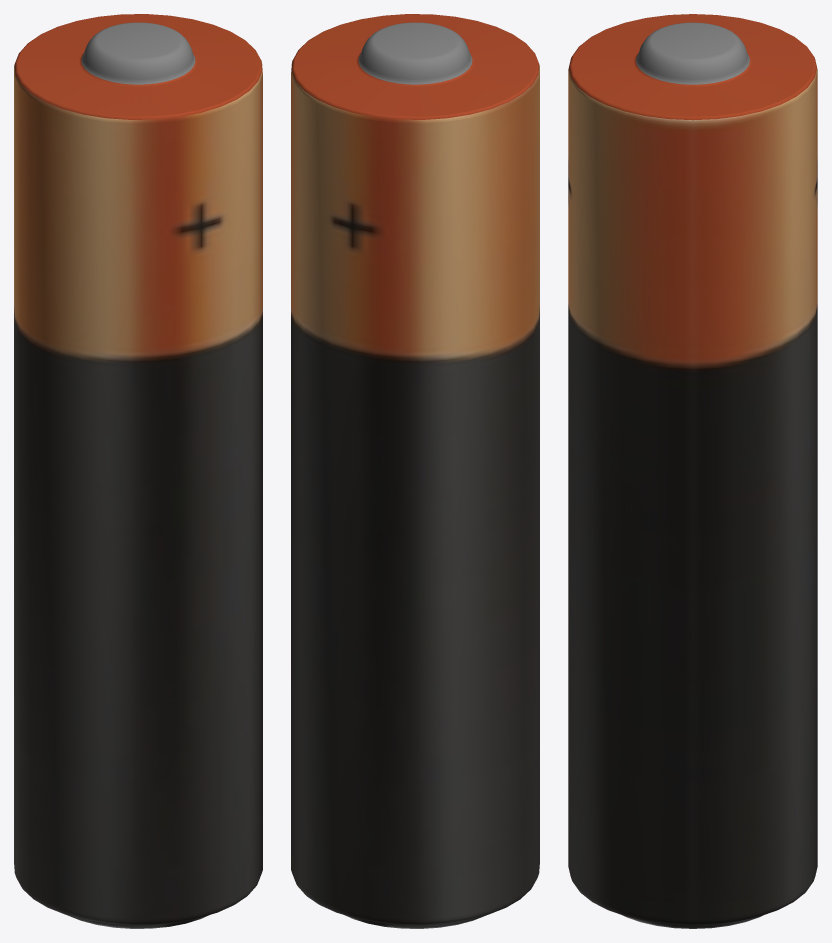
The model's file is pilha.glb.
3 renders of one model, left to right at view 1: azimuth 30°, elevation 25°; view 2: azimuth 150°, elevation 25°; view 3: azimuth 270°, elevation 25°, orthographic.
Visible parts, largest first — view 1: Cylinder; view 2: Cylinder; view 3: Cylinder.
Part boxes in pixels (x1,y1,x2,y2): Cylinder: [14, 14, 262, 928]; Cylinder: [291, 14, 539, 928]; Cylinder: [568, 14, 817, 928].
Bounding box in the file's own units: 0.6 × 2.25 × 0.6.
Materials: 1 (1 with a texture image).
